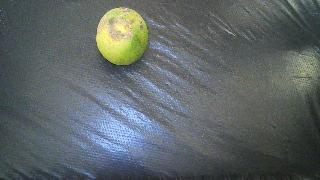DESECHO: (96, 7, 148, 65)
